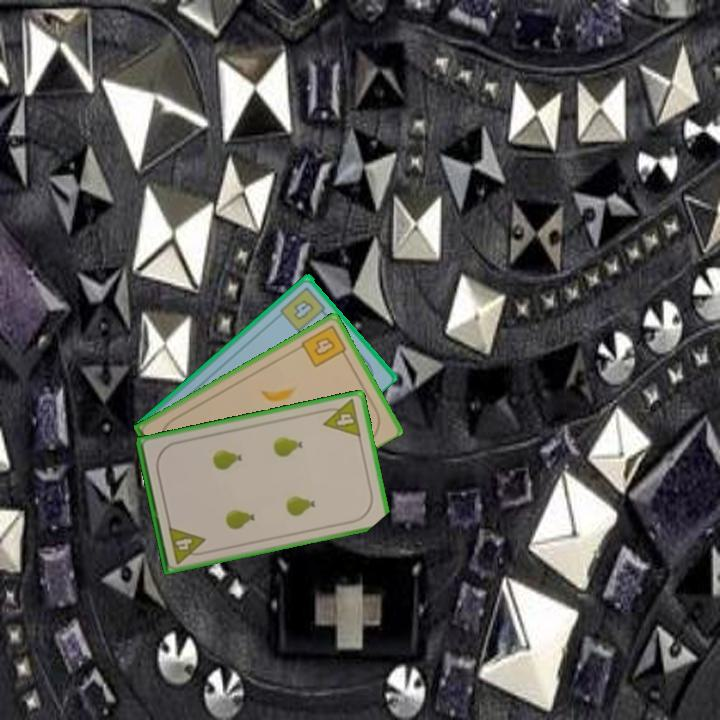4b: (277, 283, 331, 334), (298, 321, 351, 370)
4p: (317, 396, 364, 440), (165, 522, 210, 567)
